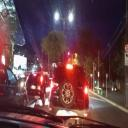NoEstacionar: (124, 43, 128, 52)
